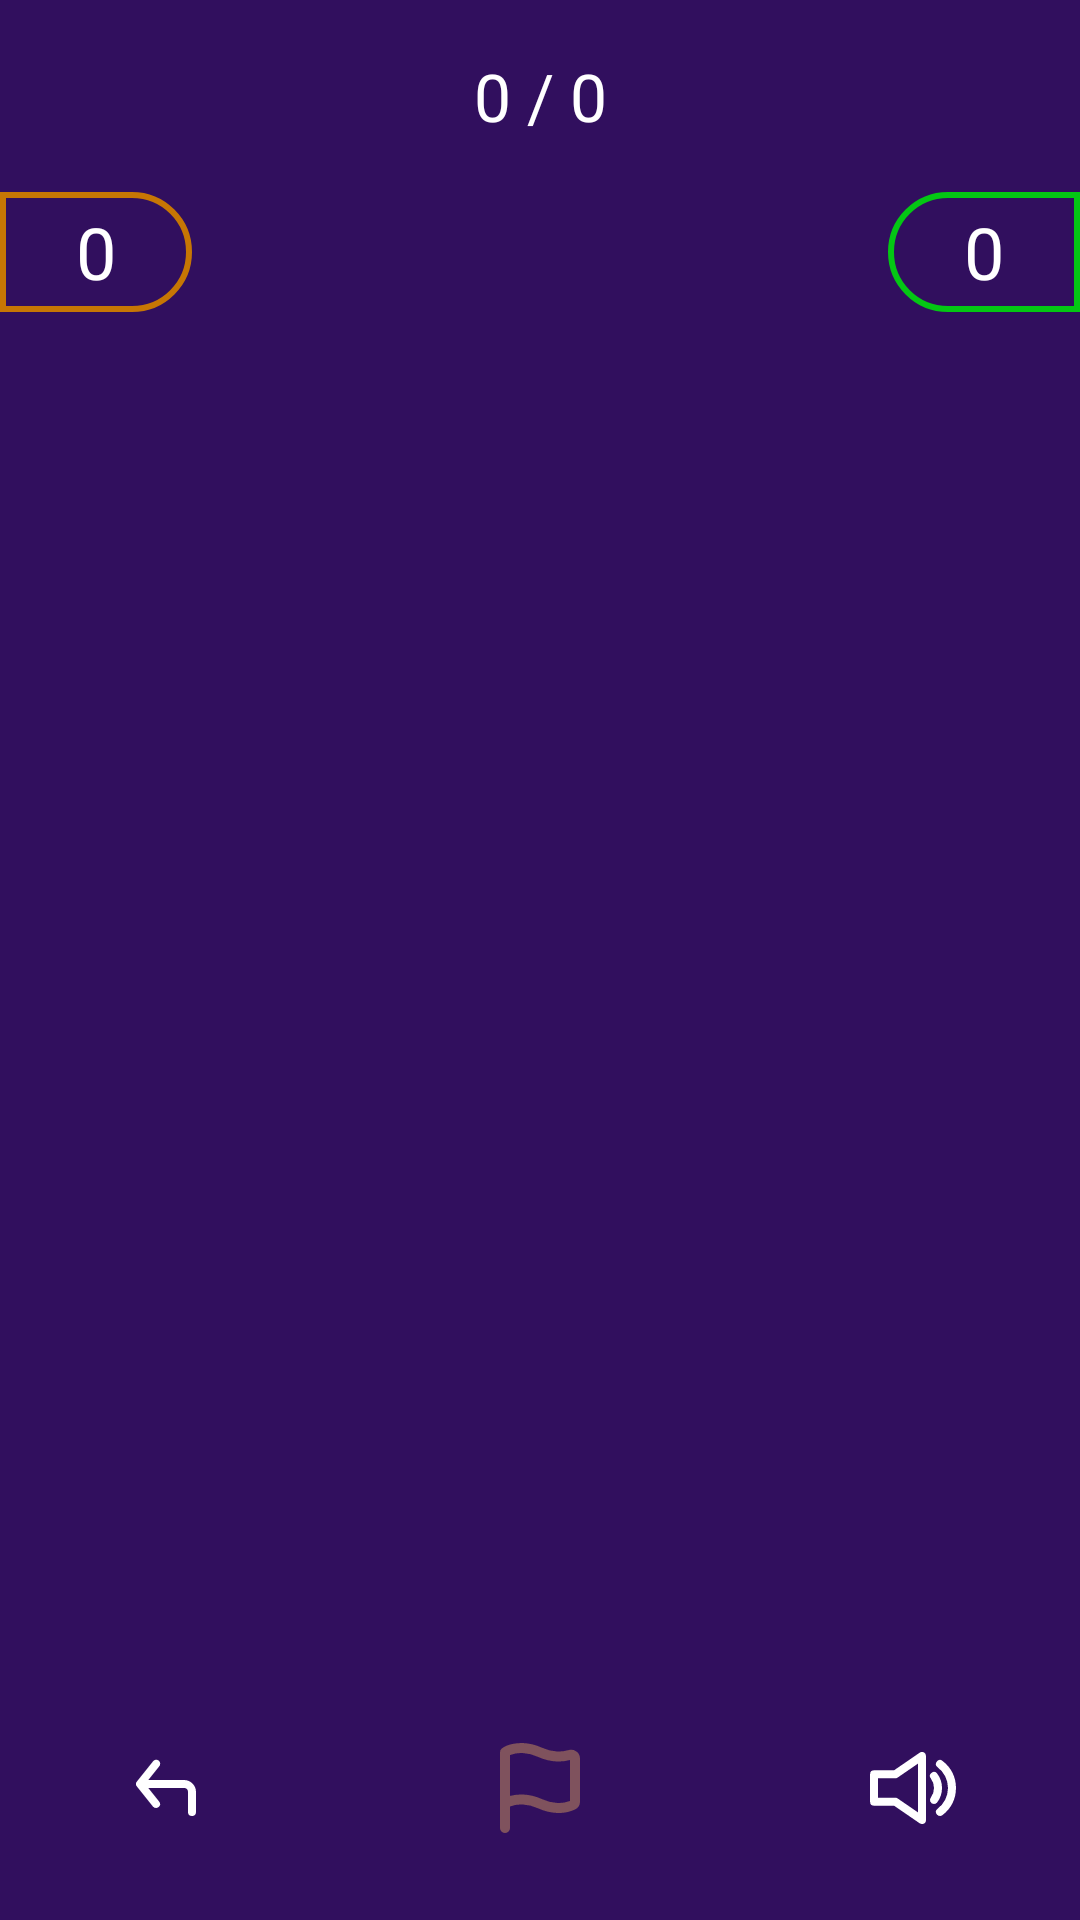

Point at icon controls on the screen. Image size 1080px×1920px, points as (x=x, y=y).
back: (x=166, y=1787)
flag: (x=540, y=1788)
sound: (x=913, y=1788)
